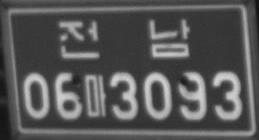0: (143, 71, 173, 120), (23, 71, 50, 119)
3: (212, 70, 242, 121), (110, 70, 138, 120)
6: (54, 71, 83, 119)
9: (178, 70, 208, 120)
마: (84, 73, 106, 117)
전남_D: (57, 18, 190, 59)
